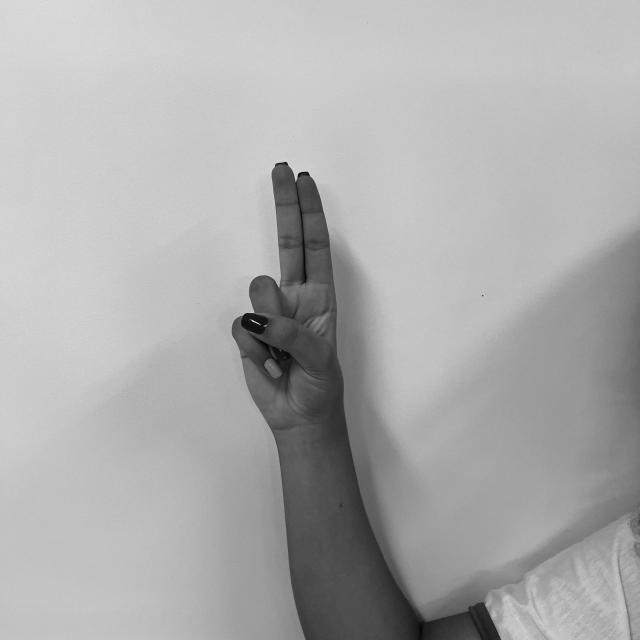Letra U: (227, 155, 355, 428)
